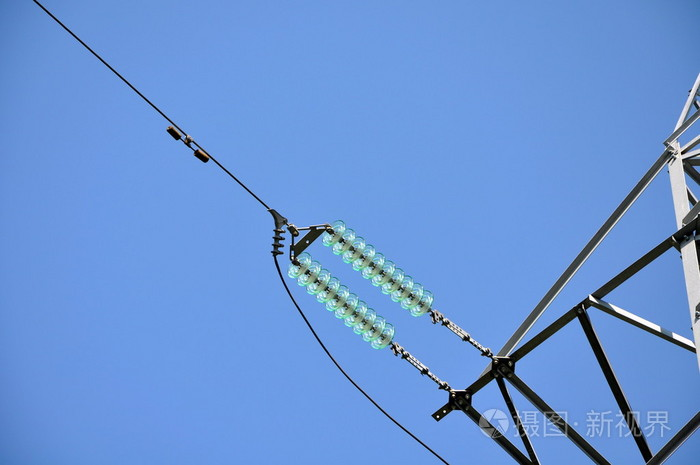insulator: (324, 219, 433, 317), (290, 252, 395, 346)
